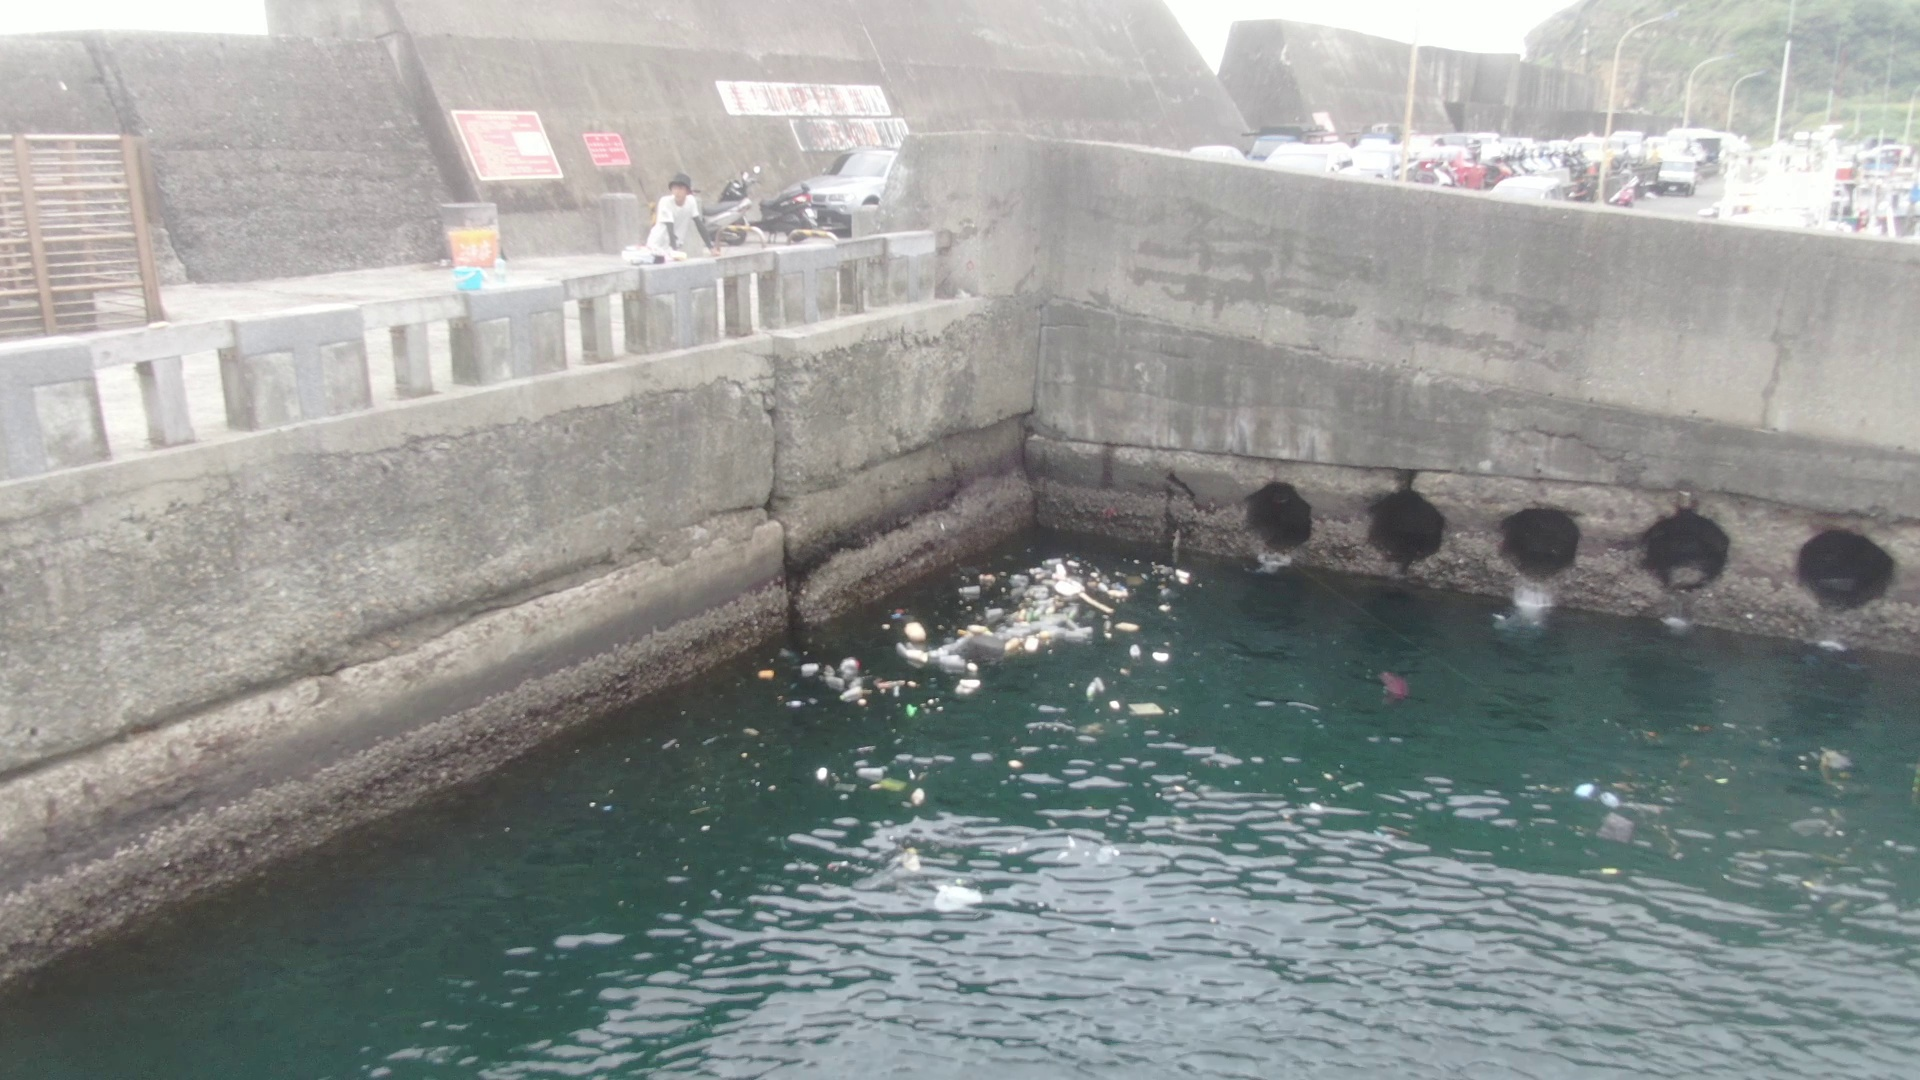garbage: (760, 535, 1212, 740)
